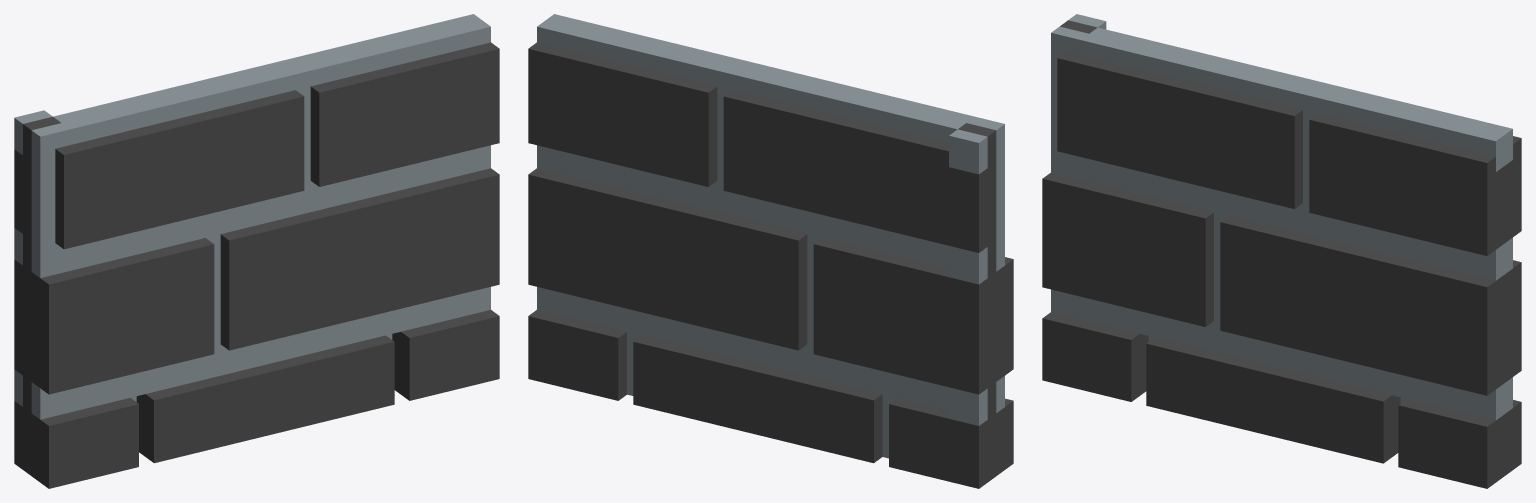
The model's file is wallf.obj.
The picture shows the model from 3 angles, left to right: view 1: azimuth 30°, elevation 25°; view 2: azimuth 150°, elevation 25°; view 3: azimuth 330°, elevation 25°; orthographic projection.
Size of the model in its own units: 3 by 2.2 by 0.4.
1 material, 1 textured.
